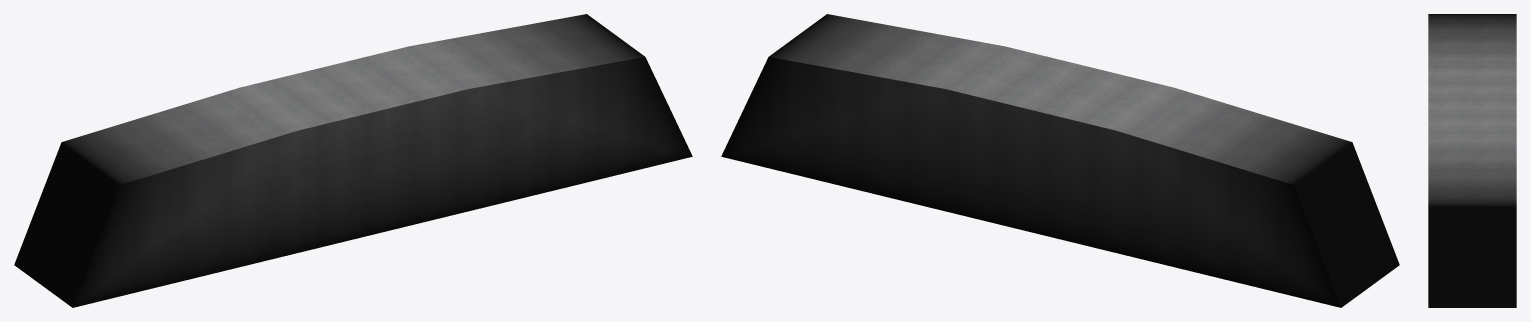
The model's file is AMB_MEI_HUMIKIRI_ONLY.glb.
3 renders of one model, left to right at view 1: azimuth 30°, elevation 25°; view 2: azimuth 150°, elevation 25°; view 3: azimuth 270°, elevation 25°, orthographic. The views are drawn at different scales.
Parts seen in each view (by area): view 1: obj2; view 2: obj2; view 3: obj2.
Part boxes in pixels (x1=…): obj2: x1=14, y1=14, x2=692, y2=307; obj2: x1=721, y1=14, x2=1399, y2=307; obj2: x1=1428, y1=14, x2=1516, y2=307.
Bounding box in the file's own units: 38.19 × 7.2 × 6.25.
Materials: 1 (1 with a texture image).
